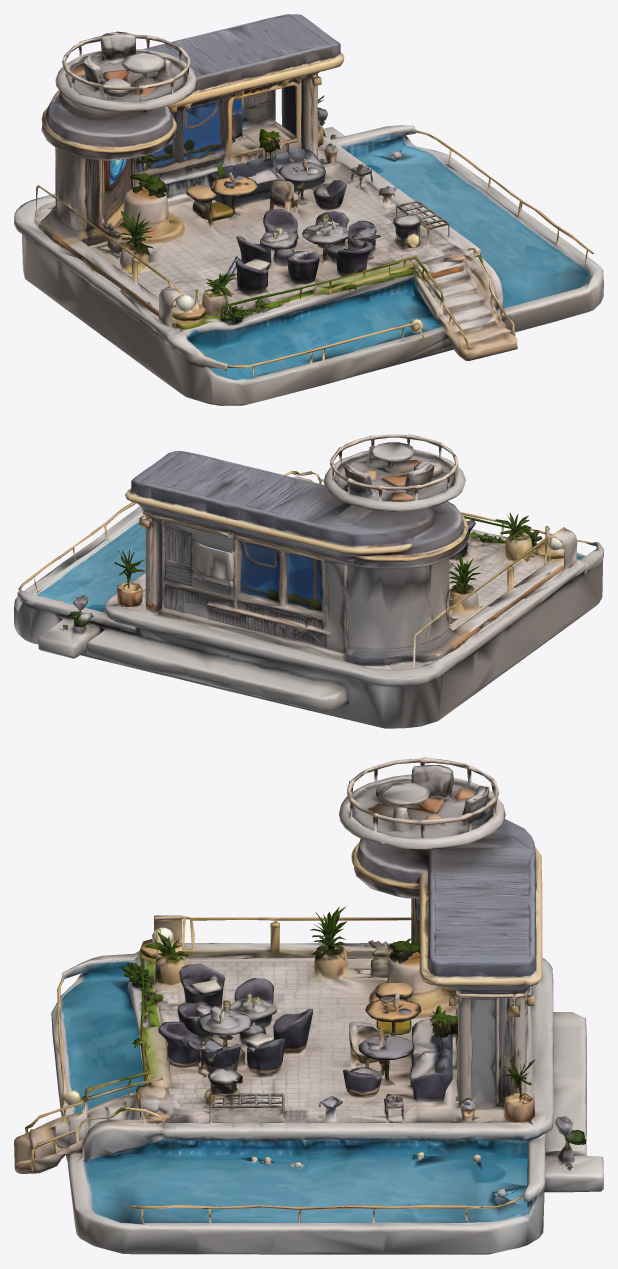
The model's file is tripo_h31_penthouse_rooftop_lounge_kit.glb.
The picture shows the model from 3 angles, top to bottom: view 1: azimuth 30°, elevation 25°; view 2: azimuth 150°, elevation 25°; view 3: azimuth 270°, elevation 25°; orthographic projection. The views are drawn at different scales.
Parts seen in each view (by area): view 1: tripo_node_4753c6b0-5597-4224-81ed-8890cdf4d70c; view 2: tripo_node_4753c6b0-5597-4224-81ed-8890cdf4d70c; view 3: tripo_node_4753c6b0-5597-4224-81ed-8890cdf4d70c.
Part boxes in pixels (x1,y1,x2,y2): tripo_node_4753c6b0-5597-4224-81ed-8890cdf4d70c: (14,14,603,405); tripo_node_4753c6b0-5597-4224-81ed-8890cdf4d70c: (14,434,603,728); tripo_node_4753c6b0-5597-4224-81ed-8890cdf4d70c: (14,757,603,1254).
Size of the model in its own units: 0.9711 by 0.4937 by 0.9794.
1 material, 1 textured.
